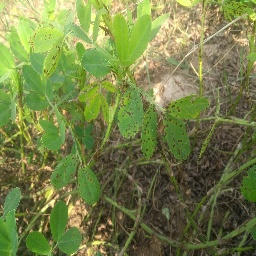GroundNut_Leaf: (120, 14, 152, 68), (116, 85, 144, 139), (28, 26, 66, 63), (161, 121, 191, 161), (164, 94, 210, 119), (50, 150, 76, 191), (23, 64, 46, 110), (77, 165, 100, 206), (80, 52, 115, 76), (39, 118, 66, 148), (49, 198, 67, 240), (145, 101, 156, 163), (83, 92, 102, 123), (10, 25, 26, 61), (25, 230, 48, 254), (75, 1, 92, 32), (4, 186, 21, 216)
